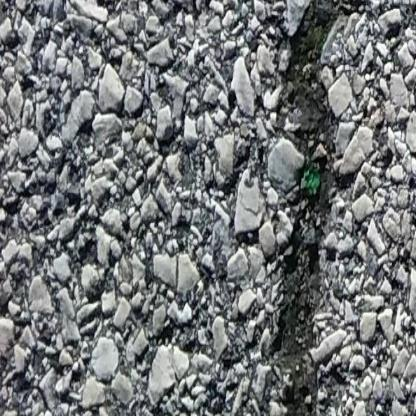Cracks: (272, 0, 357, 416)
